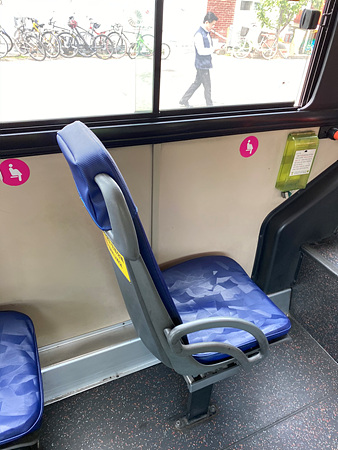seat: (68, 120, 287, 373)
